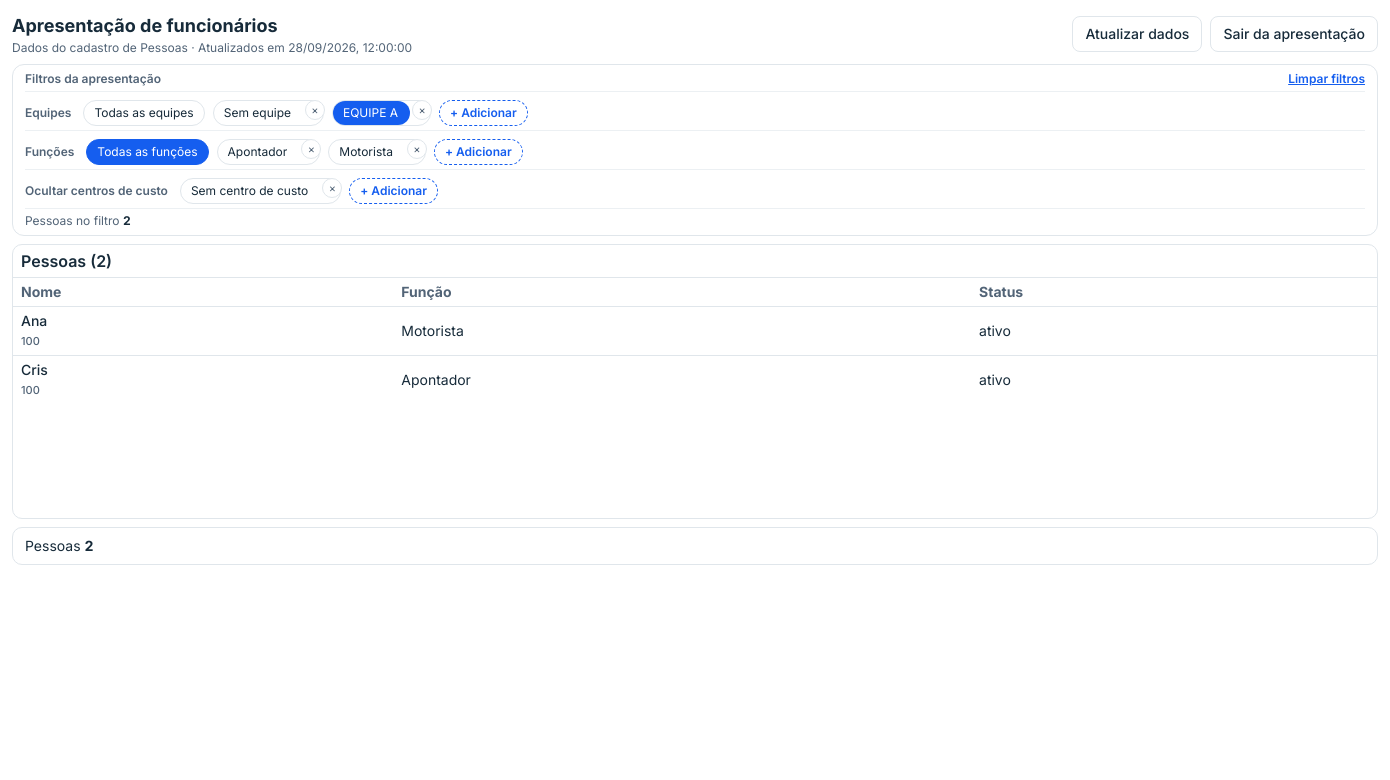
Test: tela de reunião › selects only the employee functions to show and restores all explicitly
Expected: the element named "Filtrar funções" is shown, [25,130,1365,165]
Click the button with aria-label "Selecionar função Motorista".
click(367, 152)  # box [329,140,405,164]
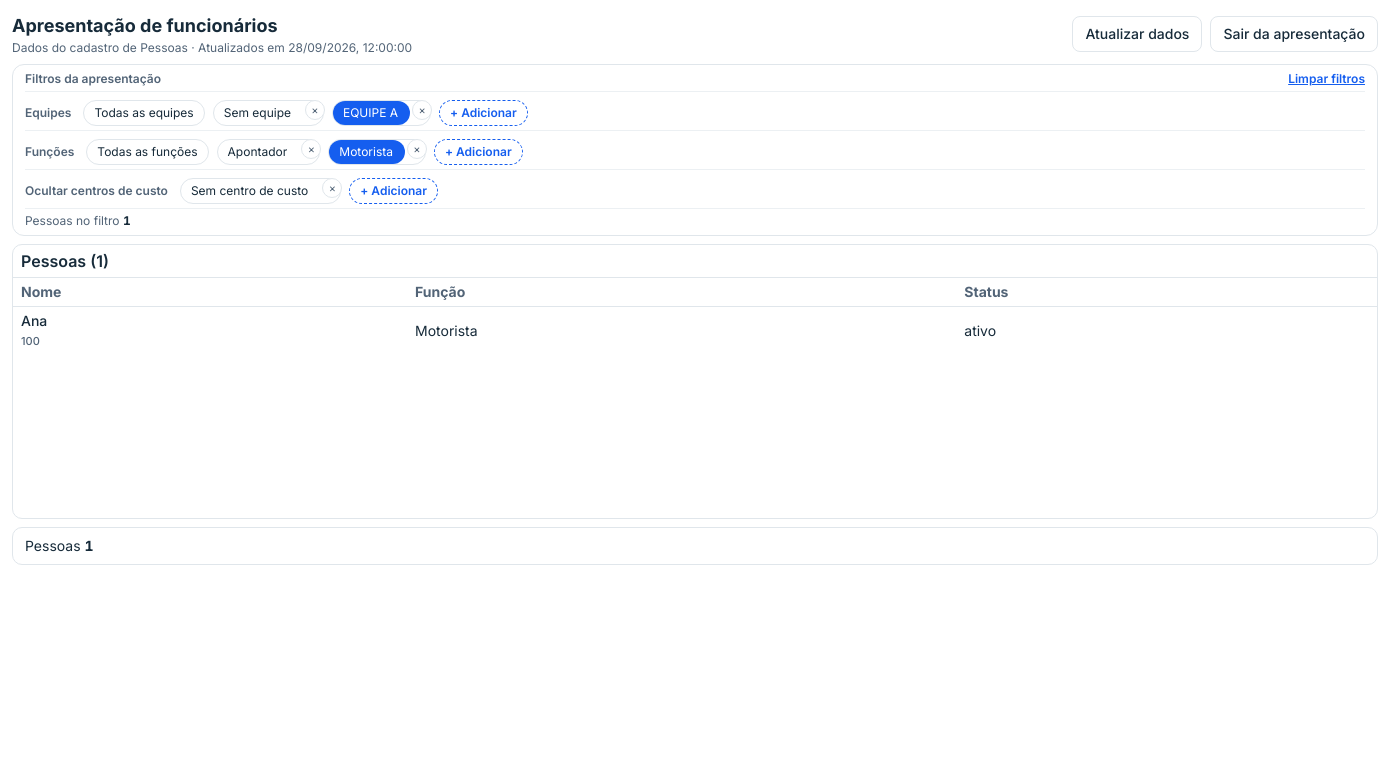
Expected: the text "Ana" is shown, [21,312,47,329]
Result: the text "Cris" is gone
Click the button with aria-label "Selecionar função Apontador".
click(258, 152)  # box [218,140,299,164]
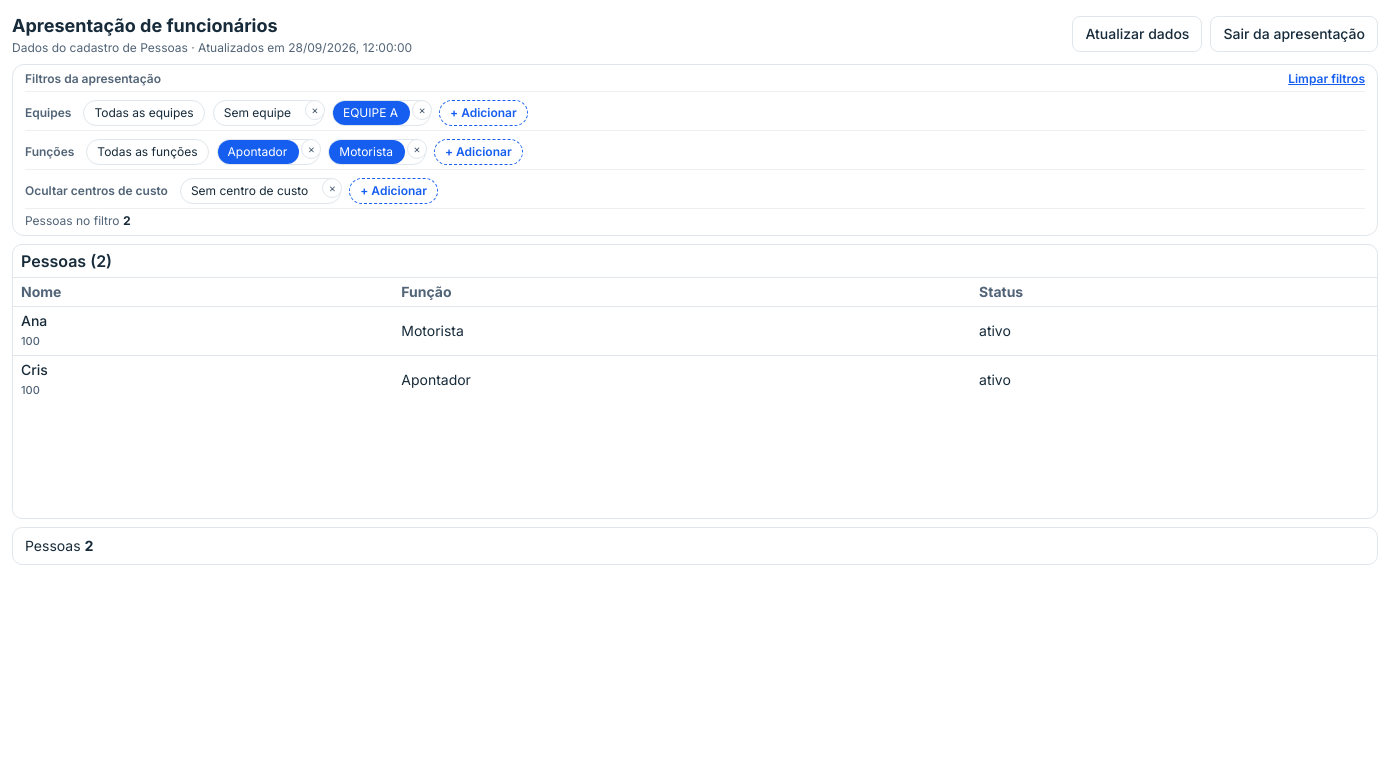
Result: the text "Cris" is shown at [21,361,48,378]
Click the button with aria-label "Retirar função Motorista".
click(367, 152)  # box [329,140,405,164]
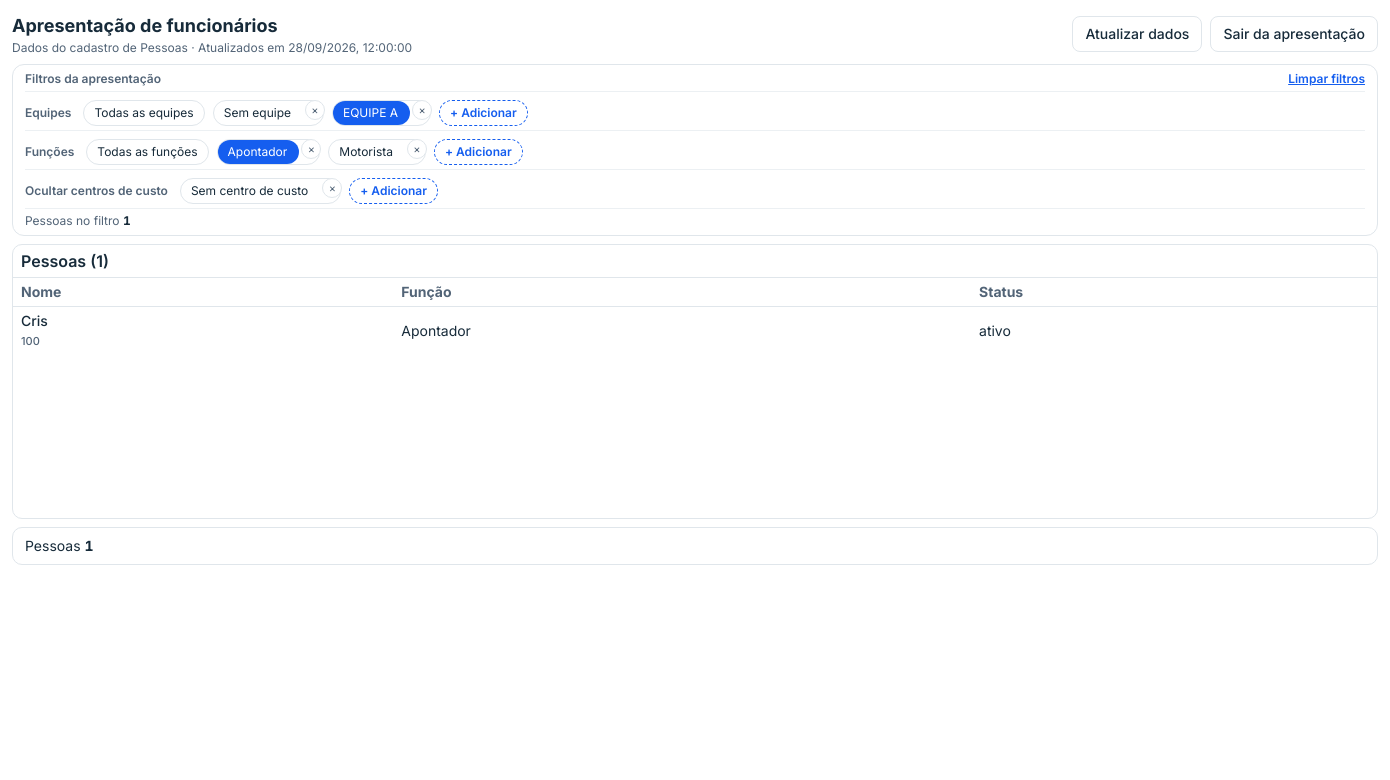
Result: the text "Cris" is shown at [21,312,48,329]
Result: the text "Ana" is gone
Click the button "Todas as funções".
click(147, 152)  # box [86,139,209,165]
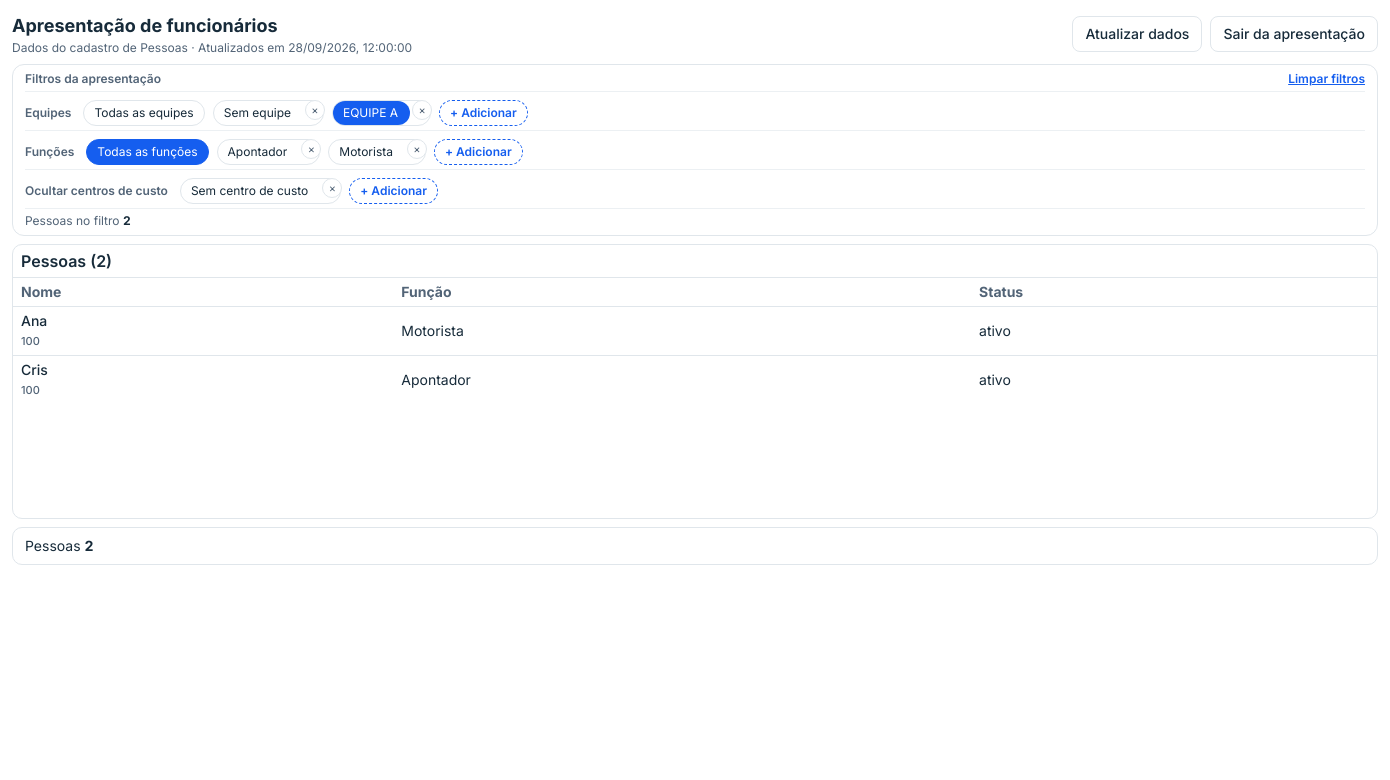
Result: the text "Ana" is shown at [21,312,47,329]
